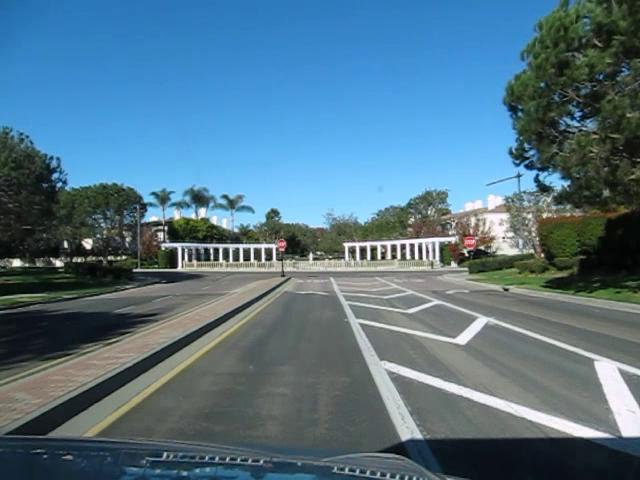stop: (463, 235, 476, 248), (275, 238, 286, 252)
